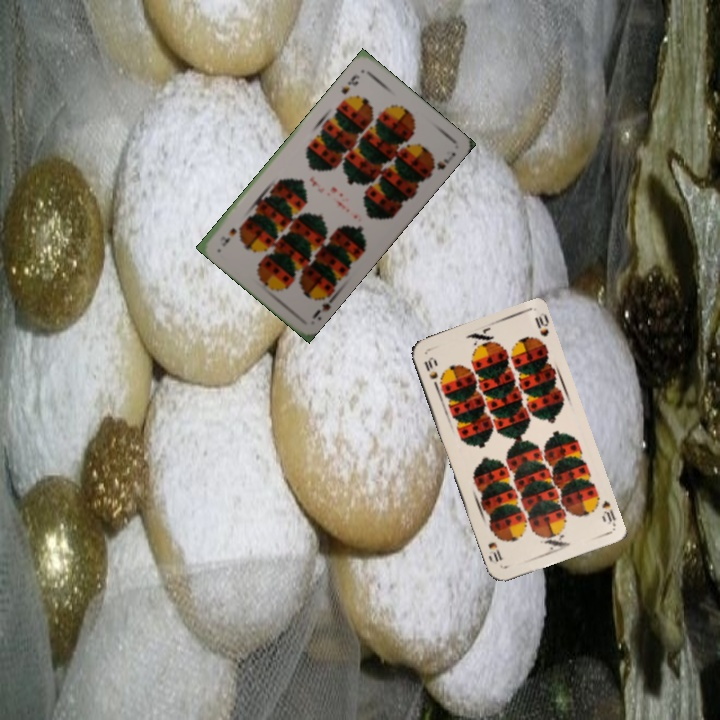S10: (420, 353, 441, 390), (598, 496, 618, 528)
S9: (308, 288, 339, 323), (337, 70, 362, 97)
